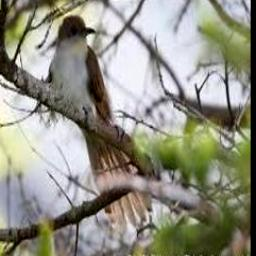Cuckoo: (48, 14, 153, 230)
